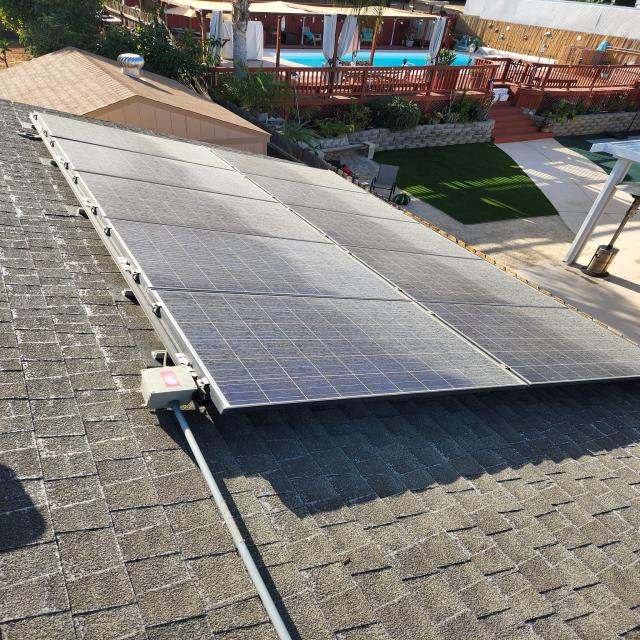dust-solar-panel: (37, 119, 637, 413)
